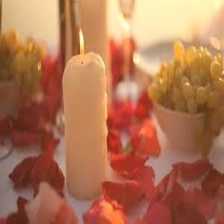smoke: (78, 26, 86, 55)
